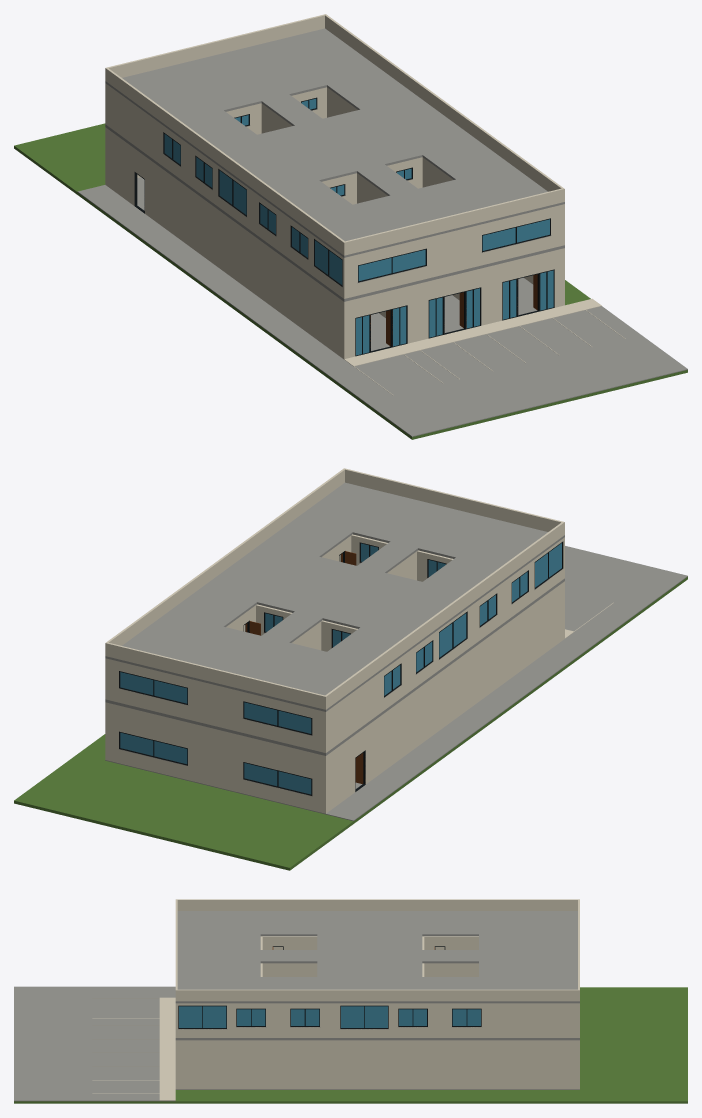
The model's file is projeto_Icaro.obj.
3 views of the same model, one above another, from view 1: azimuth 30°, elevation 25°; view 2: azimuth 150°, elevation 25°; view 3: azimuth 270°, elevation 25° (orthographic). The views are drawn at different scales.
Parts seen in each view (by area): view 1: Patio_frontal, Lateral_alvenaria, Rota_residencial, Terreno_20x50, Platibanda.002, Platibanda.003, Cobertura_com_patios.018, Cobertura_com_patios.020, Platibanda, Platibanda.001, Cobertura_com_patios.002, Cobertura_com_patios.004 (+34 smaller); view 2: Terreno_20x50, Lateral_alvenaria, Patio_frontal, Rota_residencial, Platibanda.002, Platibanda.003, Cobertura_com_patios.018, Platibanda.001, Fundo_alvenaria.003, Platibanda, Cobertura_com_patios.002, Cobertura_com_patios.016 (+42 smaller); view 3: Lateral_alvenaria.003, Terreno_20x50, Patio_frontal, Platibanda.003, Platibanda.002, Lateral_alvenaria.041, Cobertura_com_patios.002, Cobertura_com_patios.004, Cobertura_com_patios, Passeio_frontal, Cobertura_com_patios.006, Cobertura_com_patios.014 (+39 smaller).
Boxes of the visible parts, left/top/right/bottom form: Patio_frontal: left=316, top=306, right=687, bottom=436; Lateral_alvenaria: left=145, top=156, right=346, bottom=358; Rota_residencial: left=78, top=185, right=343, bottom=366; Terreno_20x50: left=14, top=123, right=687, bottom=439; Platibanda.002: left=105, top=68, right=346, bottom=255; Platibanda.003: left=324, top=14, right=564, bottom=200; Cobertura_com_patios.018: left=361, top=96, right=478, bottom=154; Cobertura_com_patios.020: left=269, top=28, right=383, bottom=84; Platibanda: left=343, top=188, right=564, bottom=255; Platibanda.001: left=105, top=14, right=326, bottom=80; Cobertura_com_patios.002: left=198, top=135, right=318, bottom=196; Cobertura_com_patios.004: left=105, top=67, right=222, bottom=126; Terreno_20x50: left=14, top=576, right=687, bottom=870; Lateral_alvenaria: left=365, top=581, right=564, bottom=784; Patio_frontal: left=565, top=546, right=687, bottom=645; Rota_residencial: left=326, top=639, right=592, bottom=821; Platibanda.002: left=324, top=522, right=564, bottom=709; Platibanda.003: left=105, top=469, right=344, bottom=654; Cobertura_com_patios.018: left=201, top=543, right=318, bottom=601; Platibanda.001: left=105, top=642, right=326, bottom=709; Fundo_alvenaria.003: left=188, top=722, right=243, bottom=793; Platibanda: left=343, top=468, right=564, bottom=534; Cobertura_com_patios.002: left=361, top=582, right=481, bottom=643; Cobertura_com_patios.016: left=296, top=482, right=400, bottom=531; Lateral_alvenaria.003: left=175, top=1040, right=579, bottom=1089; Terreno_20x50: left=14, top=987, right=687, bottom=1103; Patio_frontal: left=14, top=986, right=175, bottom=1101; Platibanda.003: left=175, top=989, right=579, bottom=1001; Platibanda.002: left=177, top=899, right=579, bottom=910; Lateral_alvenaria.041: left=481, top=1003, right=579, bottom=1037; Cobertura_com_patios.002: left=317, top=911, right=422, bottom=934; Cobertura_com_patios.004: left=479, top=911, right=577, bottom=934; Cobertura_com_patios: left=177, top=911, right=260, bottom=934; Passeio_frontal: left=159, top=997, right=175, bottom=1100; Cobertura_com_patios.006: left=317, top=934, right=422, bottom=949; Cobertura_com_patios.014: left=317, top=961, right=422, bottom=976.
Size of the model in its own units: 20 by 8.35 by 50.
